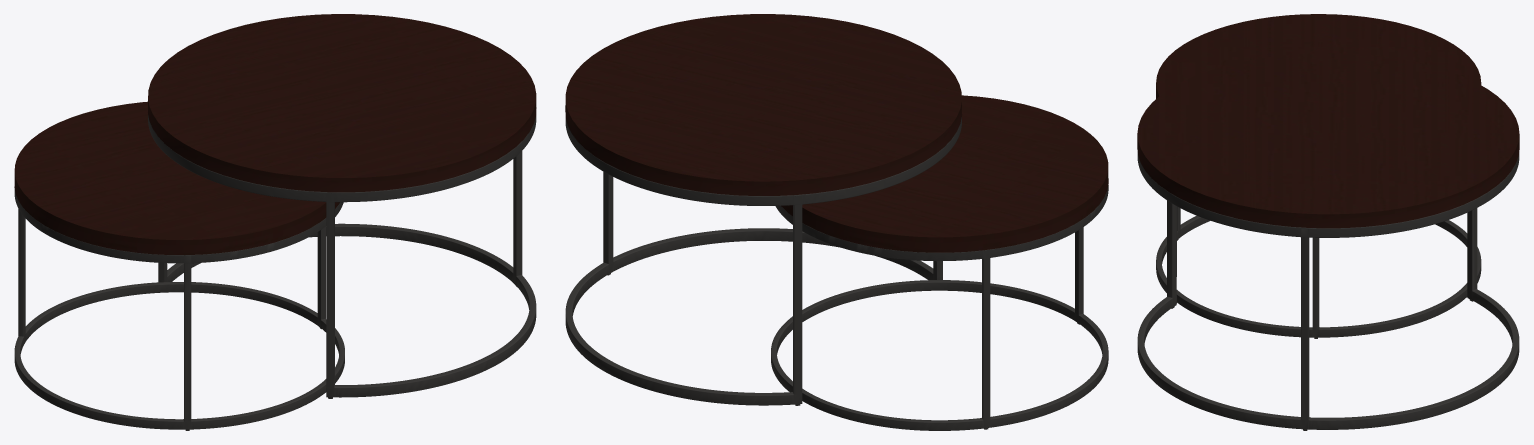
3 renders of one model, left to right at view 1: azimuth 30°, elevation 25°; view 2: azimuth 150°, elevation 25°; view 3: azimuth 270°, elevation 25°, orthographic. The views are drawn at different scales.
Parts seen in each view (by area): view 1: C-skpD418; view 2: C-skpD418; view 3: C-skpD418.
Part boxes in pixels (box(x1,y1,x2,y2)): C-skpD418: box(14, 14, 536, 430); C-skpD418: box(565, 14, 1108, 430); C-skpD418: box(1137, 14, 1519, 430).
Bounding box in the file's own units: 0.995 × 0.44 × 0.7.
Materials: 2 (1 with a texture image).
